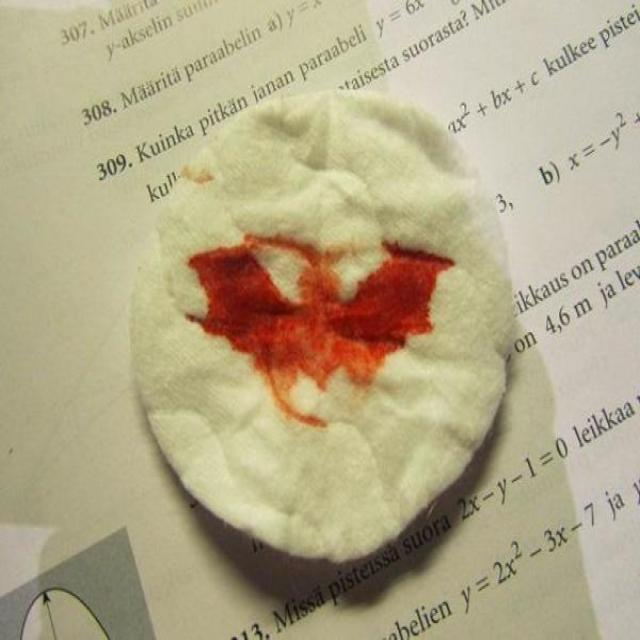B3: (135, 106, 518, 570)
